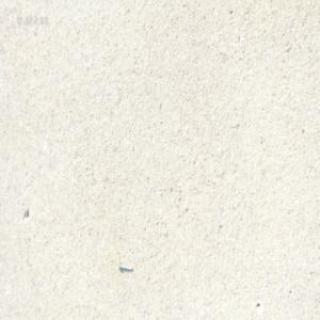Nailtrack_idkeyframe: (116, 261, 132, 271)
